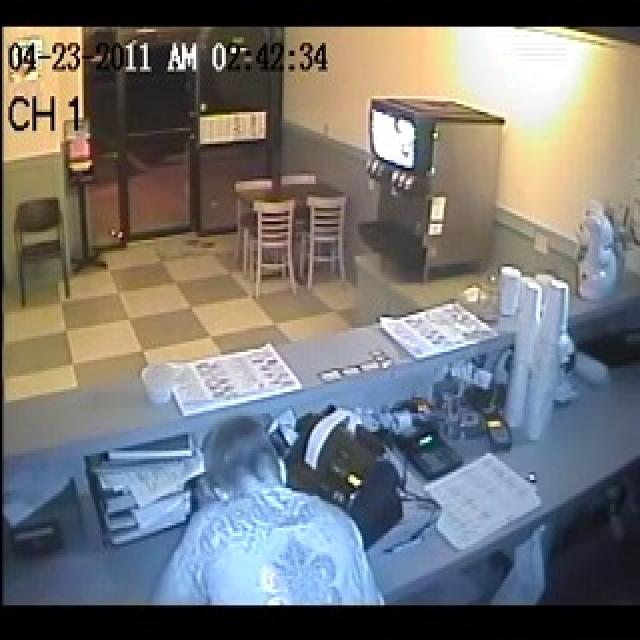thief: (151, 399, 373, 606)
